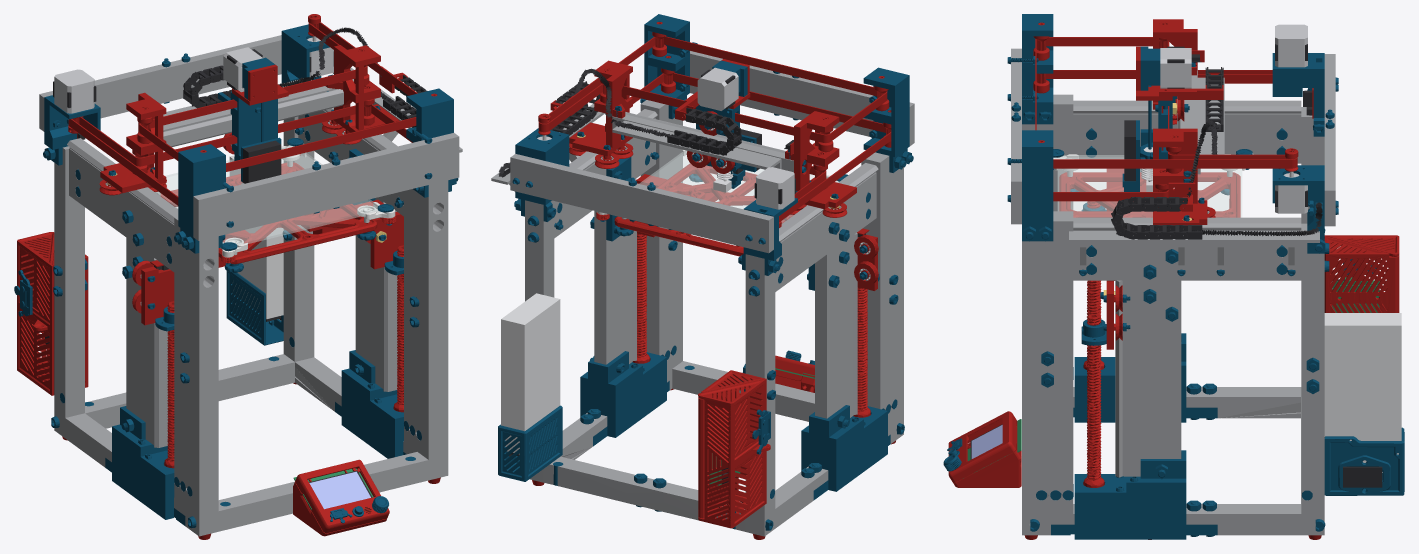
The model's file is corexy_celular.glb.
The picture shows the model from 3 angles, left to right: view 1: azimuth 30°, elevation 25°; view 2: azimuth 150°, elevation 25°; view 3: azimuth 270°, elevation 25°; orthographic projection. The views are drawn at different scales.
Parts seen in each view (by area): view 1: posteFrenteInf_E, posteFrenteInf_D, travFrente_E, travFrente_D, trilhoY_E, trilhoZ_E, posteFrenteSup_E, posteFrenteSup_D, DL1-02-10_porta_fechada | portaRAMPS, trilhoZ_D, correiaA, posteTrasInf_E (+45 smaller); view 2: DL1-02-10_porta_fechada | portaRAMPS, fonte, trilhoZ_E, trilhoZ_D, correiaA, trilhoY_E, travTras_E, travTras_D, posteFrenteInf_E, posteFrenteInf_D, DL1-02-15 | protecaoFonte, posteFrenteSup_E (+38 smaller); view 3: trilhoZ_D, fonte, trilhoY_D, posteFrenteSup_D, trilhoY_E, posteFrenteInf_D, mesa_vidro, DL1-02-09_caixa_ramps | caixaRAMPS, correiaA, baseZSup_D, baseZInf_D, DL1-02-15 | protecaoFonte (+45 smaller).
Boxes of the visible parts, left/top/right/bottom form: posteFrenteInf_E: left=174, top=338, right=218, bottom=515; posteFrenteInf_D: left=404, top=282, right=448, bottom=459; travFrente_E: left=193, top=169, right=348, bottom=240; travFrente_D: left=304, top=133, right=459, bottom=204; trilhoY_E: left=67, top=138, right=178, bottom=271; trilhoZ_E: left=126, top=238, right=168, bottom=447; posteFrenteSup_E: left=174, top=217, right=218, bottom=393; posteFrenteSup_D: left=404, top=180, right=448, bottom=337; DL1-02-10_porta_fechada | portaRAMPS: left=17, top=232, right=54, bottom=395; trilhoZ_D: left=355, top=197, right=397, bottom=391; correiaA: left=139, top=22, right=417, bottom=171; posteTrasInf_E: left=54, top=256, right=84, bottom=417; DL1-02-10_porta_fechada | portaRAMPS: left=698, top=378, right=770, bottom=528; fonte: left=501, top=293, right=560, bottom=454; trilhoZ_E: left=815, top=233, right=857, bottom=418; trilhoZ_D: left=594, top=179, right=636, bottom=364; correiaA: left=538, top=36, right=887, bottom=142; trilhoY_E: left=775, top=163, right=878, bottom=291; travTras_E: left=620, top=190, right=773, bottom=253; travTras_D: left=510, top=154, right=662, bottom=216; posteFrenteInf_E: left=867, top=261, right=903, bottom=426; posteFrenteInf_D: left=646, top=226, right=682, bottom=372; DL1-02-15 | protecaoFonte: left=498, top=405, right=562, bottom=481; posteFrenteSup_E: left=861, top=152, right=903, bottom=314; trilhoZ_D: left=1115, top=280, right=1181, bottom=477; fonte: left=1324, top=313, right=1401, bottom=462; trilhoY_D: left=1073, top=217, right=1301, bottom=280; posteFrenteSup_D: left=1022, top=211, right=1073, bottom=389; trilhoY_E: left=1073, top=100, right=1301, bottom=163; posteFrenteInf_D: left=1022, top=389, right=1073, bottom=513; mesa_vidro: left=1057, top=155, right=1242, bottom=217; DL1-02-09_caixa_ramps | caixaRAMPS: left=1324, top=236, right=1399, bottom=312; correiaA: left=1035, top=37, right=1297, bottom=168; baseZSup_D: left=1074, top=450, right=1186, bottom=508; baseZInf_D: left=1051, top=509, right=1217, bottom=539; DL1-02-15 | protecaoFonte: left=1324, top=427, right=1404, bottom=495.
Bounding box in the file's own units: 0.4676 × 0.5934 × 0.5864.
